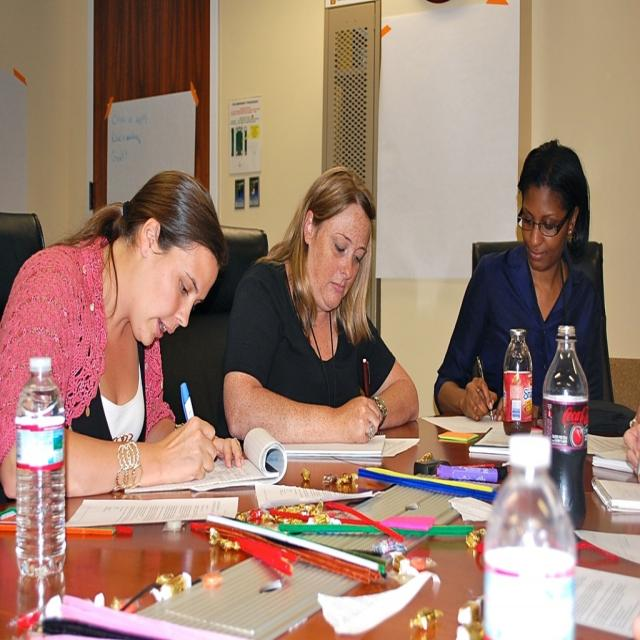chair: (0, 212, 46, 326)
desk: (0, 414, 639, 639)
person: (0, 170, 246, 509), (220, 164, 420, 448), (435, 141, 612, 417)
